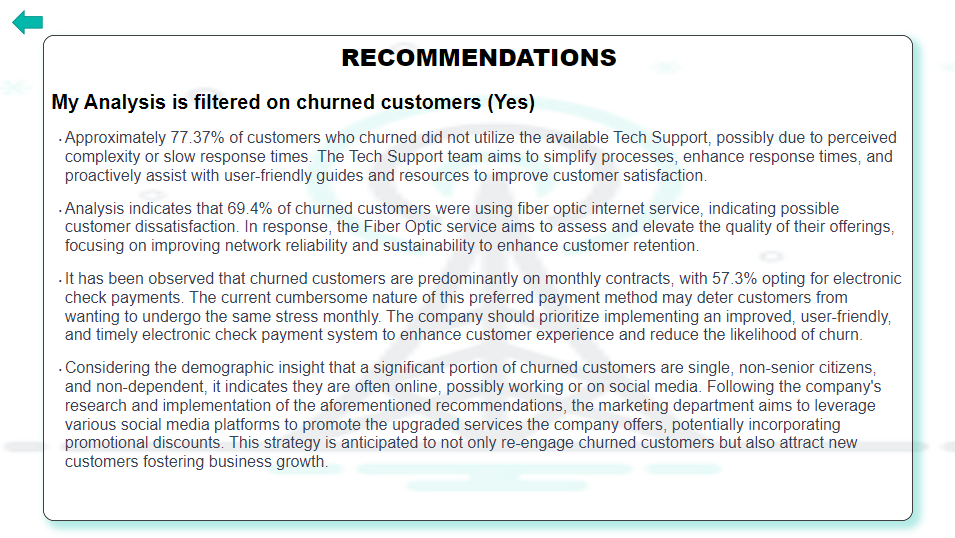

Layout of this report page (visuals, bound fields, positions):
{"tool":"powerbi","page":{"name":"Page 2","canvas":[1280,720],"ordinal":1},"visuals":[{"type":"textbox","title":"RECOMMENDATIONS","box":[60,49.3,1160,648],"z":0},{"type":"shape","box":[18.7,16,41.3,33.3],"z":1000}]}

Visuals, with their boxes in screenshot pixels (x1, y1, x2, y2), scaled from the page's 1280x720 canvas onto the 955x538 screenshot:
"RECOMMENDATIONS" textbox: BBox(45, 37, 910, 521)
shape: BBox(14, 12, 45, 37)
